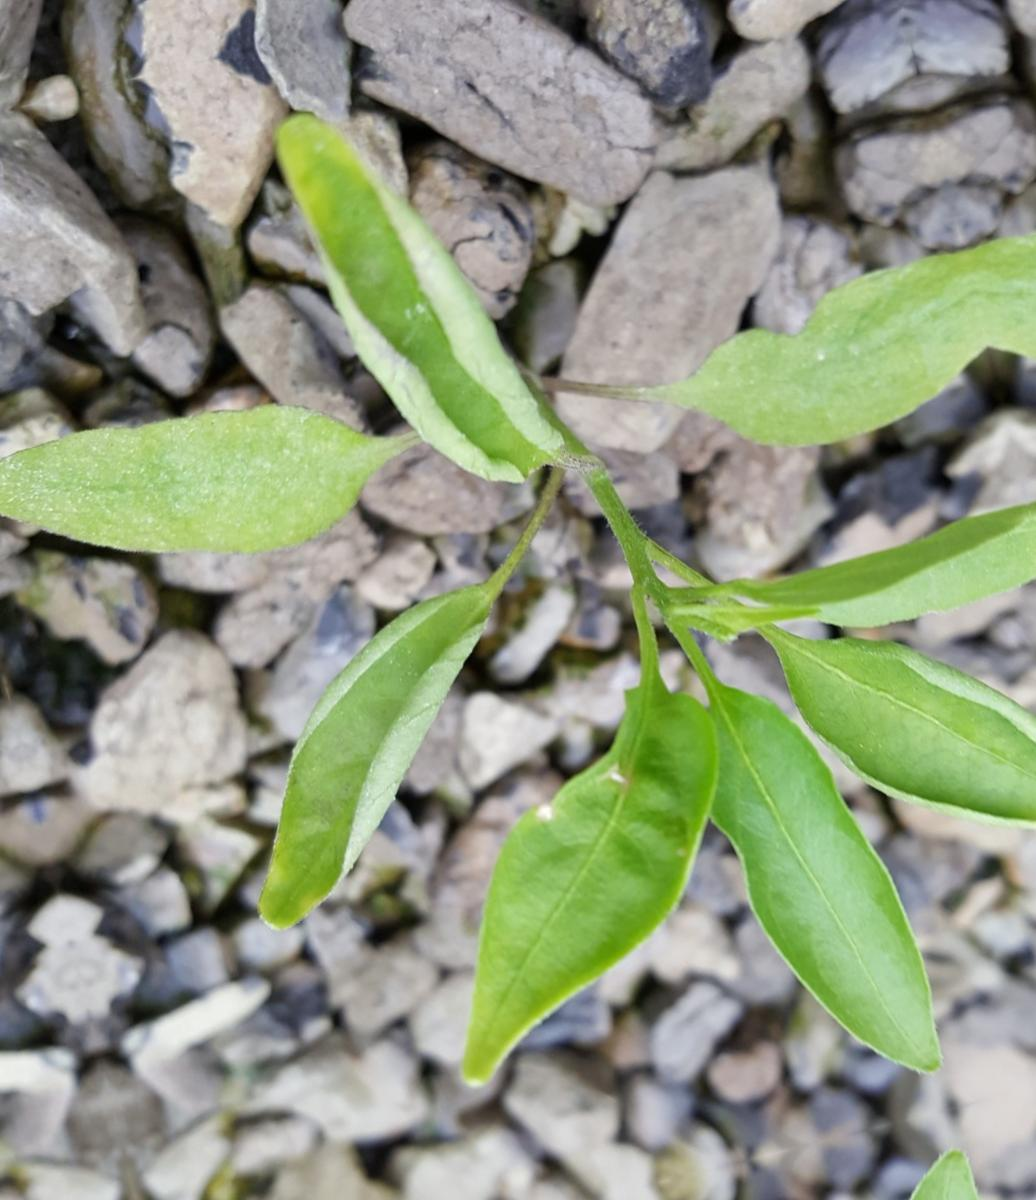Tomato leaf: (355, 669, 793, 1114), (631, 602, 975, 1117), (187, 561, 587, 945), (0, 336, 425, 632), (642, 253, 1002, 489)
